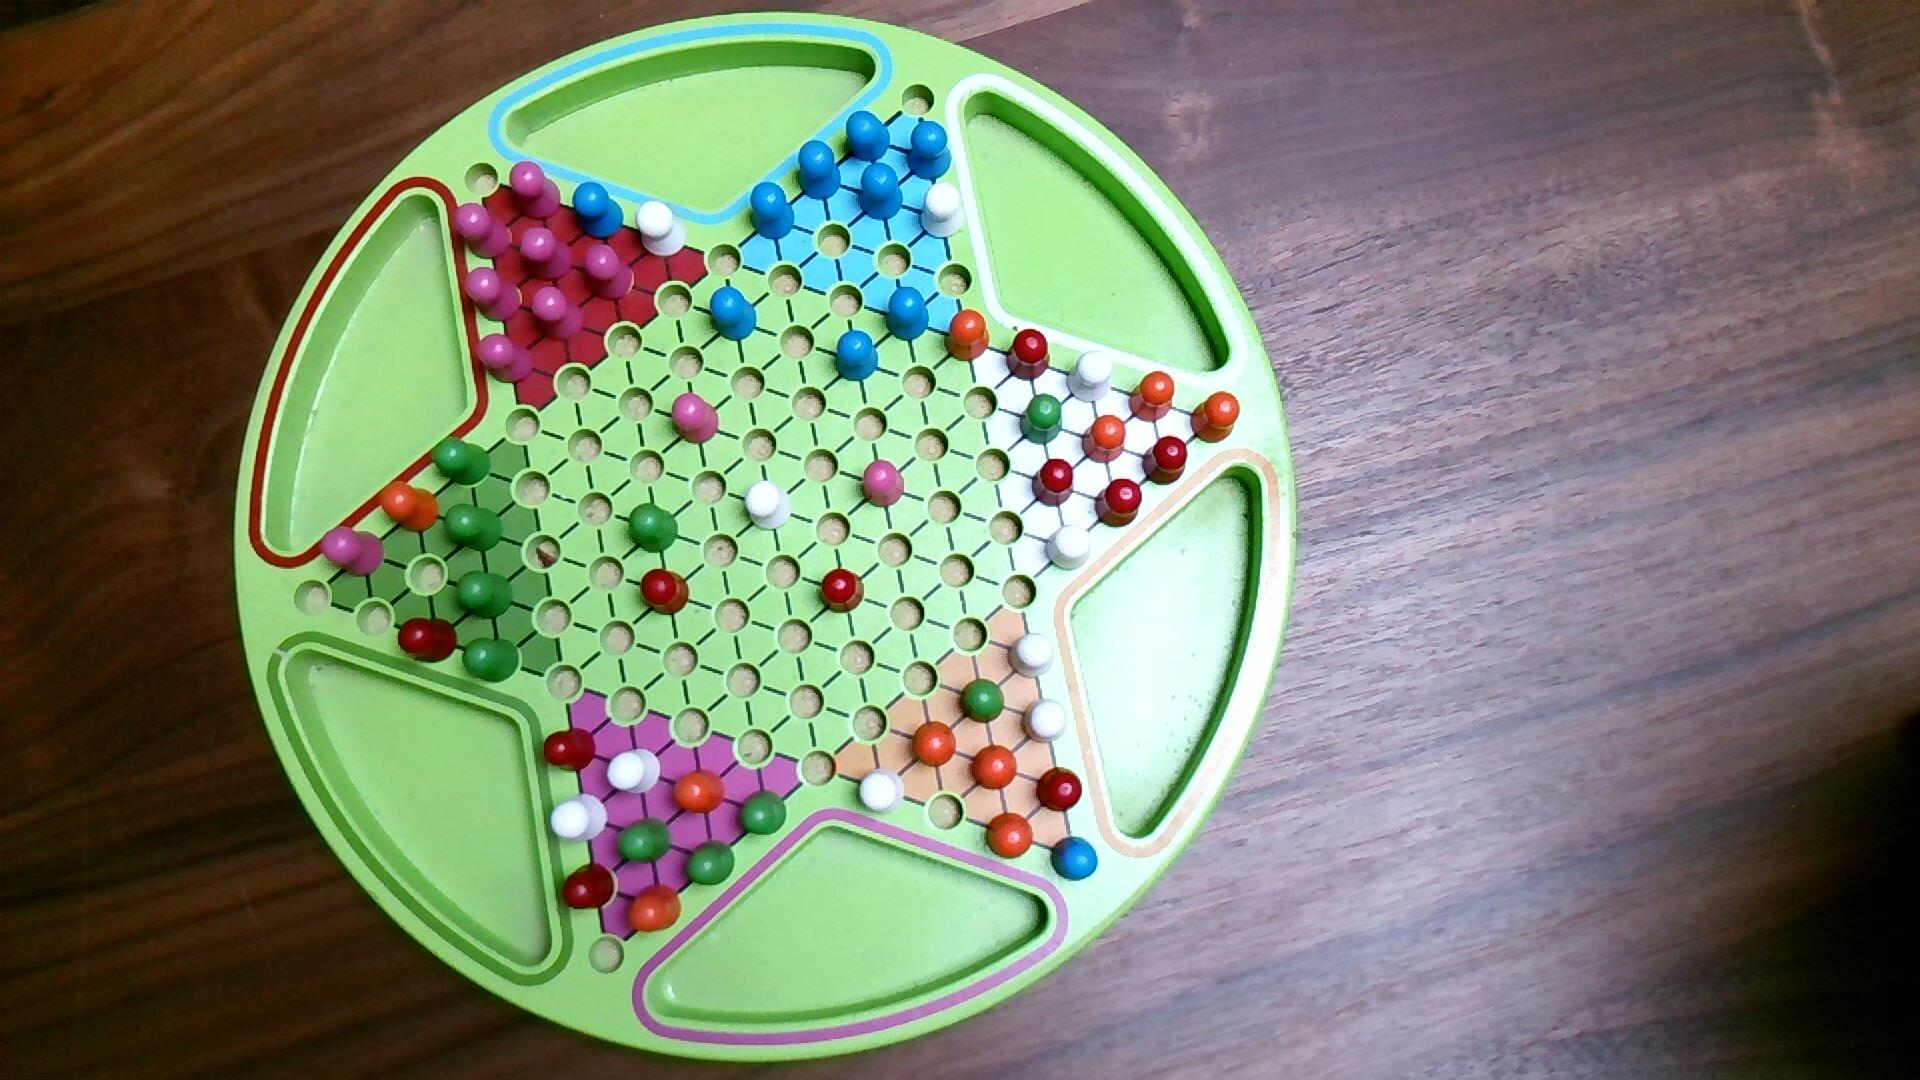B: (570, 179, 626, 243), (795, 137, 844, 204), (708, 284, 760, 345), (906, 119, 953, 185), (749, 179, 796, 244), (857, 160, 905, 224), (884, 284, 932, 345), (843, 109, 893, 165), (833, 328, 881, 385), (1048, 835, 1101, 884)
G: (442, 500, 505, 556), (430, 434, 495, 488), (454, 568, 517, 622), (615, 814, 675, 869), (625, 500, 680, 556), (462, 636, 524, 686), (684, 837, 738, 890), (1017, 392, 1067, 448), (736, 787, 790, 837), (957, 676, 1007, 727)
O: (377, 479, 443, 535), (625, 880, 684, 938), (1189, 389, 1244, 447), (670, 767, 728, 819), (1127, 368, 1178, 425), (942, 309, 992, 365), (984, 810, 1036, 862), (909, 719, 960, 771), (1080, 411, 1129, 467), (971, 742, 1021, 793)
R: (556, 857, 617, 913), (398, 615, 462, 666), (640, 564, 694, 618), (541, 724, 597, 775), (1004, 327, 1054, 384), (1093, 476, 1145, 530), (1139, 434, 1189, 489), (1035, 764, 1085, 816), (1030, 455, 1077, 510), (818, 566, 866, 617)
R2: (316, 524, 388, 580), (450, 200, 514, 262), (462, 264, 524, 324), (516, 224, 578, 285), (529, 284, 588, 345), (580, 243, 638, 305), (506, 158, 563, 222), (473, 331, 538, 386), (669, 389, 721, 447), (858, 456, 907, 512)
W: (547, 791, 611, 847), (636, 198, 690, 261), (916, 179, 969, 243), (605, 744, 665, 798), (1064, 347, 1116, 405), (742, 479, 796, 533), (855, 766, 909, 819), (1007, 629, 1058, 682), (1044, 522, 1095, 574), (1021, 696, 1071, 746)
